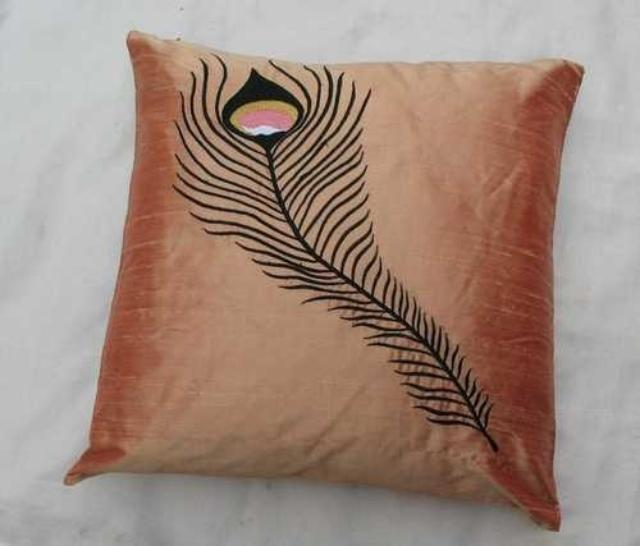pillow: (61, 28, 584, 531)
